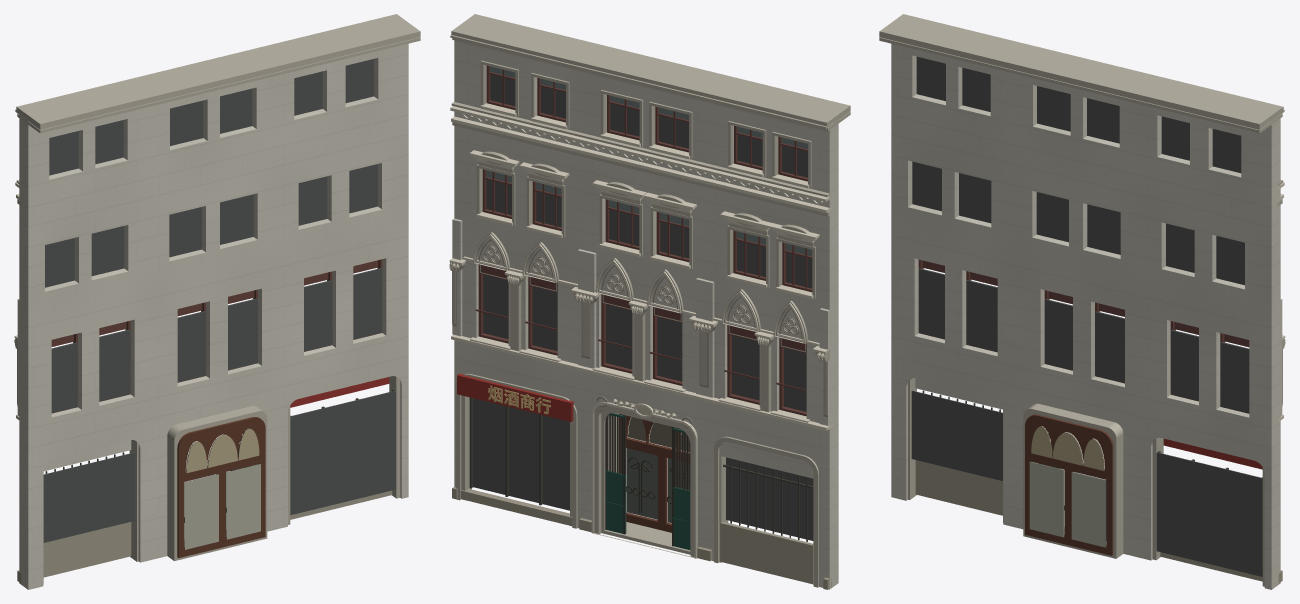
Rendered from huangpu-jinling-eight-trefoil-front-raw.glb.
3 renders of one model, left to right at view 1: azimuth 30°, elevation 25°; view 2: azimuth 150°, elevation 25°; view 3: azimuth 330°, elevation 25°, orthographic.
Visible parts, largest first — view 1: 金陵东路原洋行南立面尖券窗与入口; view 2: 金陵东路原洋行南立面尖券窗与入口; view 3: 金陵东路原洋行南立面尖券窗与入口.
Part boxes in pixels (x1,y1,x2,y2): 金陵东路原洋行南立面尖券窗与入口: (14, 14, 420, 589); 金陵东路原洋行南立面尖券窗与入口: (449, 14, 850, 589); 金陵东路原洋行南立面尖券窗与入口: (879, 14, 1285, 589).
Size of the model in its own units: 11.07 by 13.2 by 1.3.
20 materials, 1 textured.
